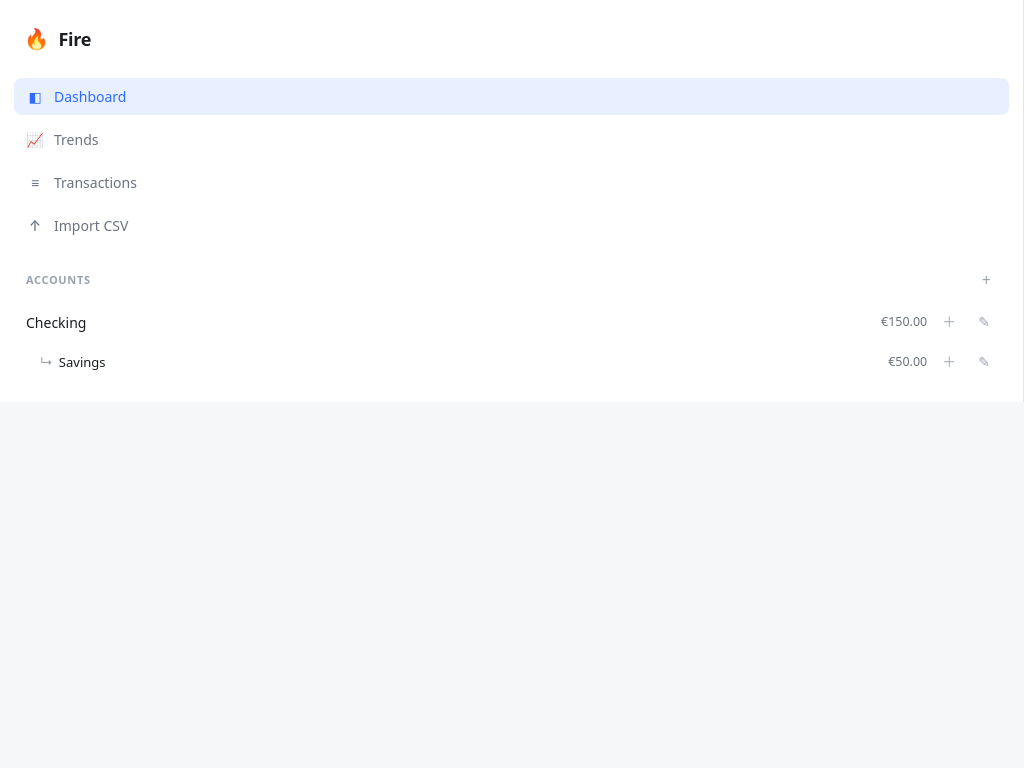
it: Sidebar › shows a plain confirmation for a leaf account with no subaccounts
Click the button titled "Edit" next to "€50.00" at (984, 362), box top-left (971, 350), bottom-right (997, 374)
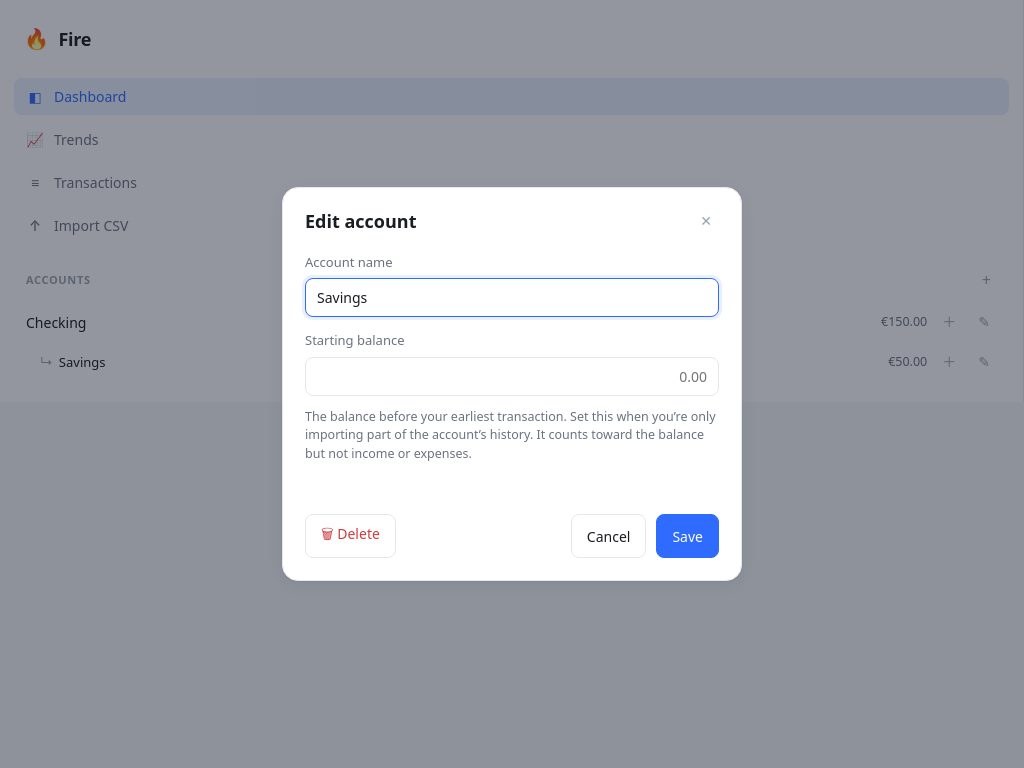
Click the button "🗑 Delete" at (350, 536), box top-left (305, 514), bottom-right (396, 558)
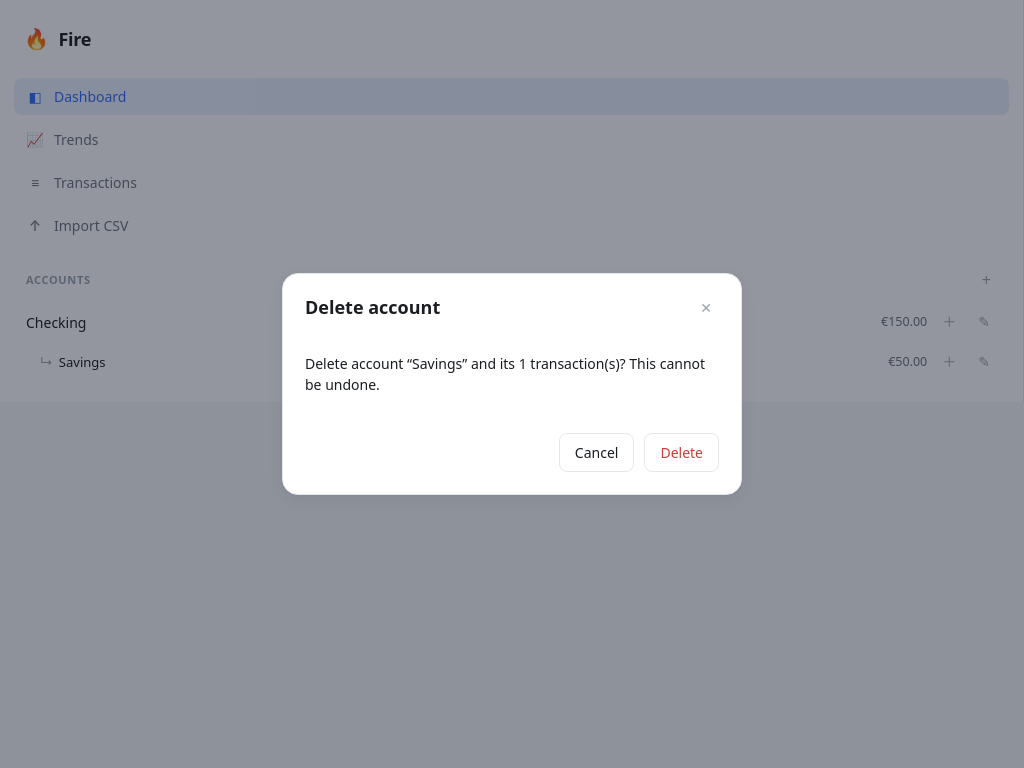
expect the text "Delete account" shows "1 transaction": met, box top-left (282, 273), bottom-right (742, 495)
